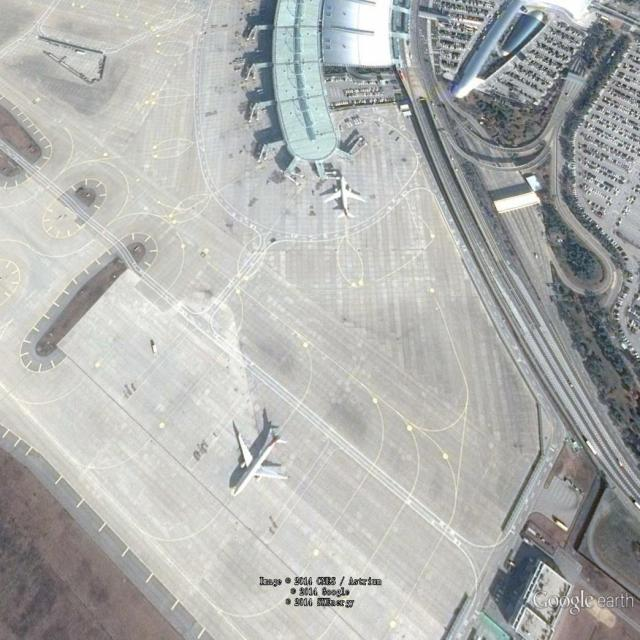aircraft: (233, 429, 293, 498), (322, 172, 369, 223)
